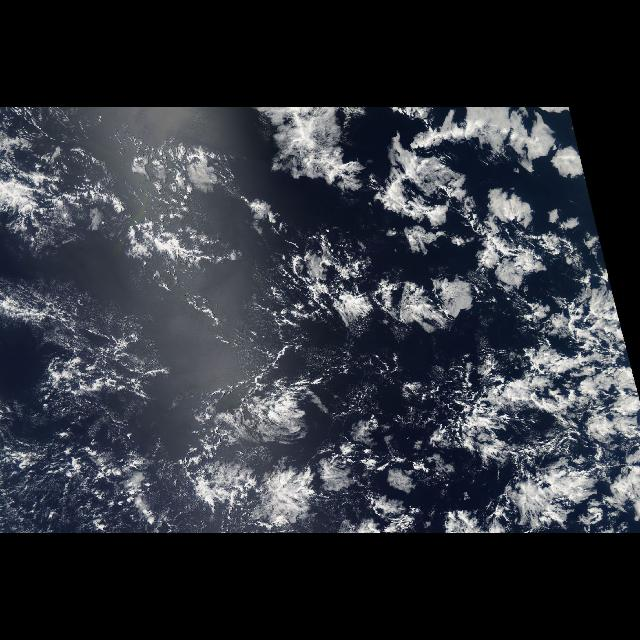Flower: (225, 108, 621, 528)
Gravel: (2, 278, 310, 530)
